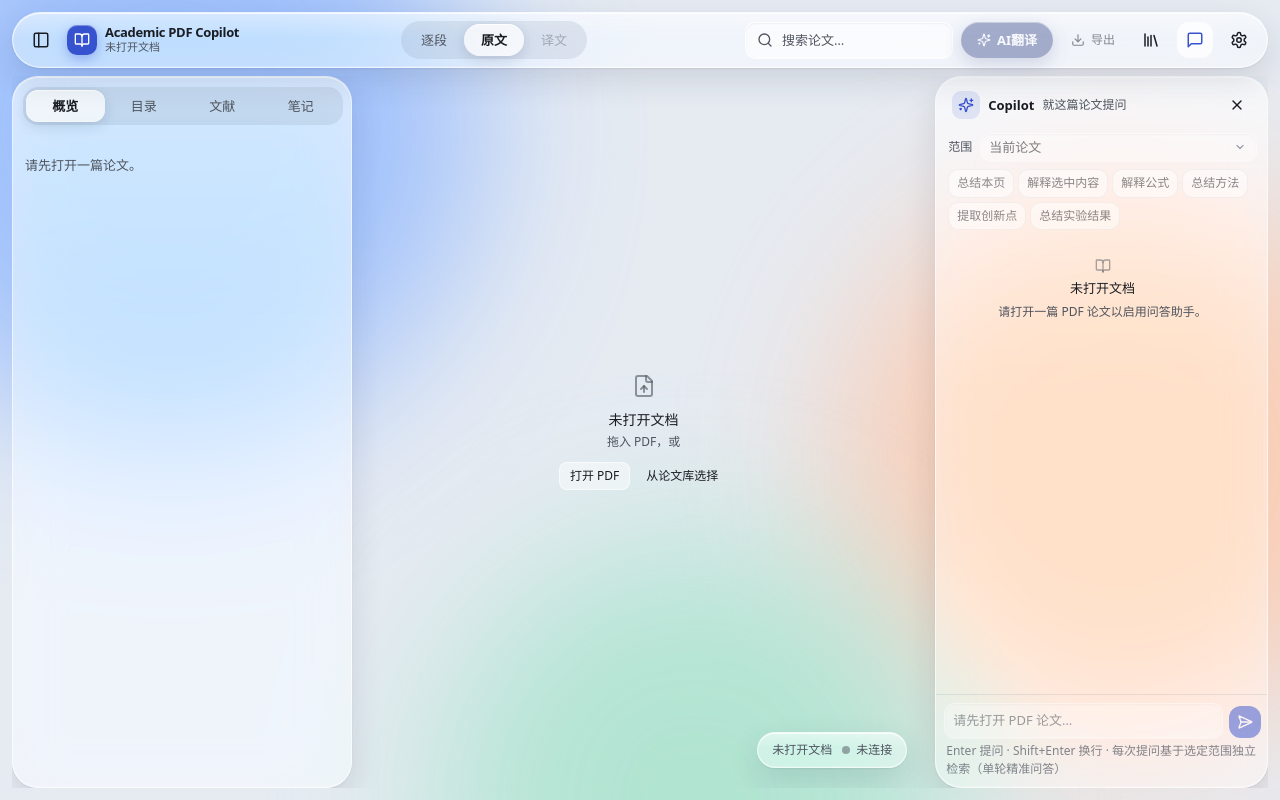
DS-DOC-005 · the doors › opens from the top bar (AC-P0-05)
Click the button with test id "library-open". click: (1151, 40)
box: [1133,22,1169,58]
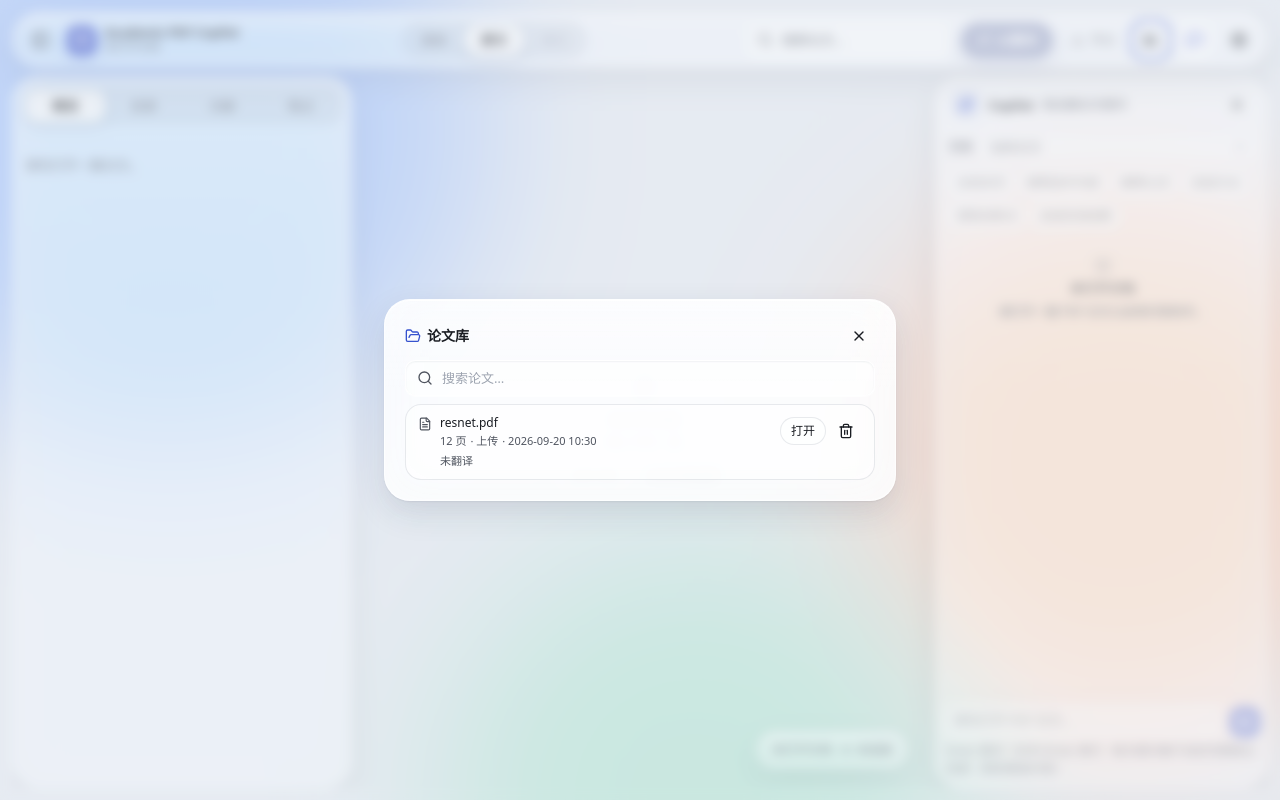
Result: the dialog with test id "library-dialog" is shown at [384,299,896,501]
Result: the list with test id "library-list" is shown at [405,404,875,480]
